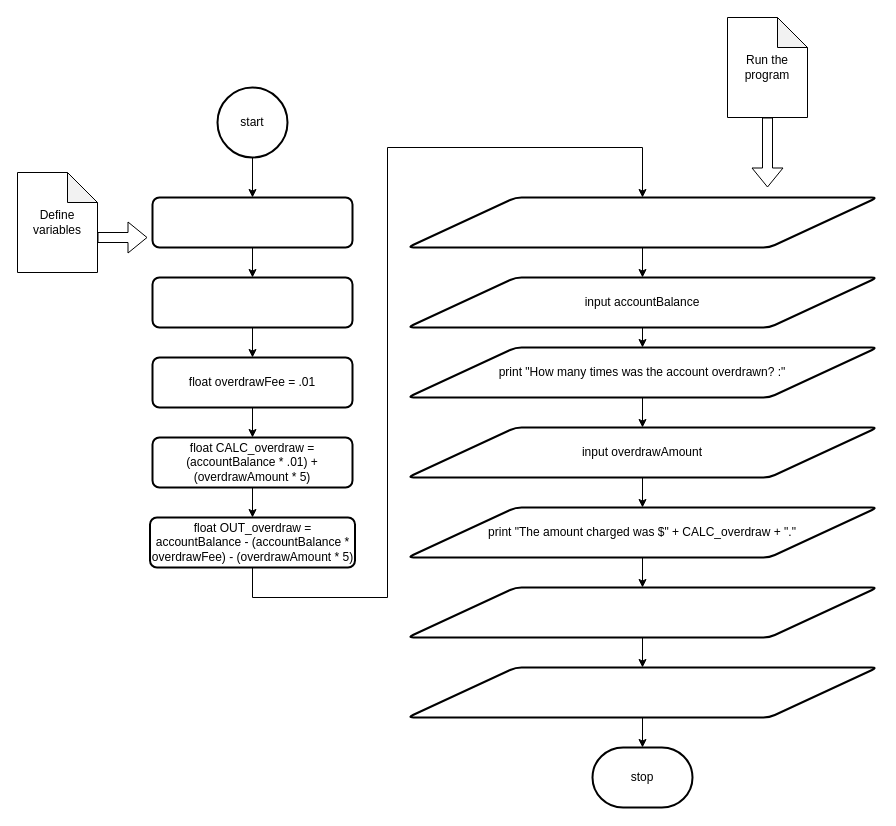
Image size: 896x826. Some labels were removed from this diagram. Each missing label, with the box of its shape:
float accountBalance = 0.0: (151, 196, 353, 248)
overdrawAmount = 0: (151, 276, 353, 328)
print "Thank you for using this program!": (406, 666, 878, 718)
print "What's your account balance? :": (406, 196, 878, 248)
print "Your new account balance is $" + OUT_overdraw + ".": (406, 586, 878, 638)
